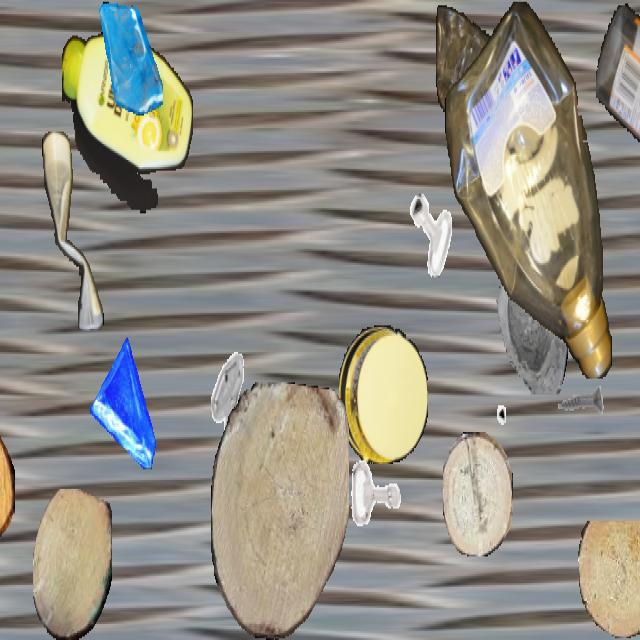glass: (481, 234, 571, 394), (90, 338, 164, 469), (99, 1, 163, 116)
metal: (345, 439, 407, 549), (197, 349, 257, 455), (553, 363, 605, 455), (456, 353, 506, 442), (407, 190, 455, 276)
plastic: (445, 1, 613, 378), (62, 32, 192, 213), (42, 132, 104, 330), (339, 325, 427, 464), (596, 2, 640, 229), (436, 2, 510, 126)
wood: (211, 382, 349, 638), (33, 489, 111, 638), (443, 432, 513, 556), (578, 521, 640, 638), (0, 428, 14, 542)
